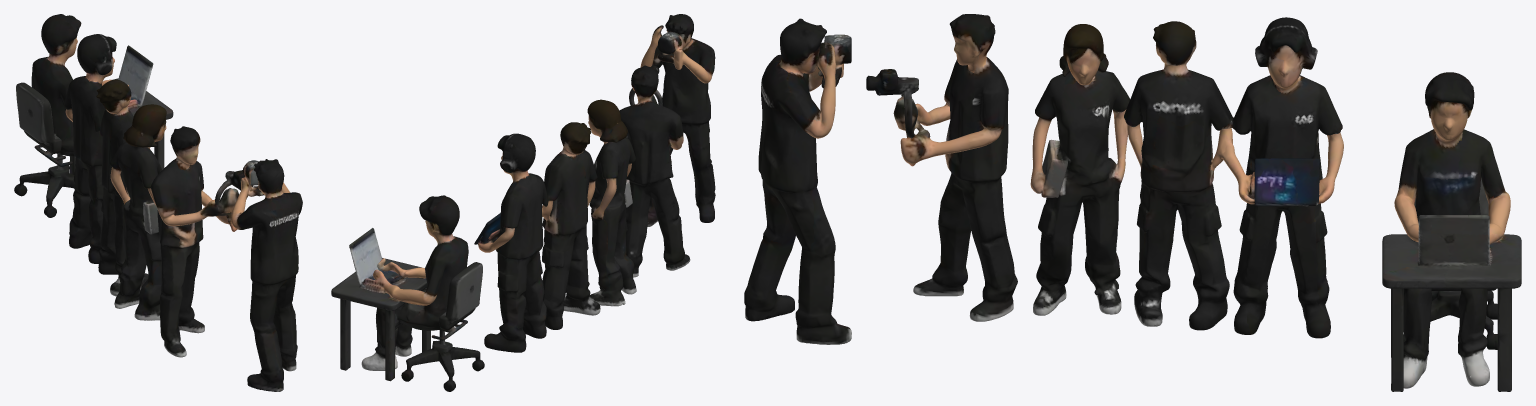
File: team.glb
The picture shows the model from 3 angles, left to right: view 1: azimuth 30°, elevation 25°; view 2: azimuth 150°, elevation 25°; view 3: azimuth 270°, elevation 25°; orthographic projection. The views are drawn at different scales.
Parts seen in each view (by area): view 1: tripo_node_fdcc6ef1-0bd1-4ab9-8b44-b98adf423d61; view 2: tripo_node_fdcc6ef1-0bd1-4ab9-8b44-b98adf423d61; view 3: tripo_node_fdcc6ef1-0bd1-4ab9-8b44-b98adf423d61.
Boxes of the visible parts, left/top/right/bottom form: tripo_node_fdcc6ef1-0bd1-4ab9-8b44-b98adf423d61: left=14, top=14, right=302, bottom=391; tripo_node_fdcc6ef1-0bd1-4ab9-8b44-b98adf423d61: left=331, top=14, right=715, bottom=391; tripo_node_fdcc6ef1-0bd1-4ab9-8b44-b98adf423d61: left=744, top=14, right=1521, bottom=391.
Size of the model in its own units: 0.3573 by 0.4294 by 1.
1 material, 1 textured.
